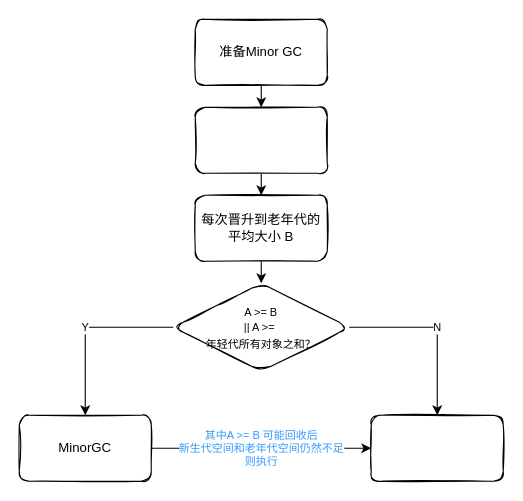
The diagram is 523 pixels wide and 501 high, and some of its shapes have lost their labels. The shapes that lost their labels are listed below. From the top down, each one's box as (x1, y1, x2, y2) in pixels, then its label:
(194, 106, 327, 173): 老年代最大可用 连续空间 A
(370, 414, 503, 481): FullGC
